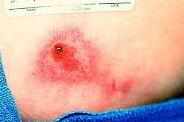Spider: (37, 31, 89, 82)
